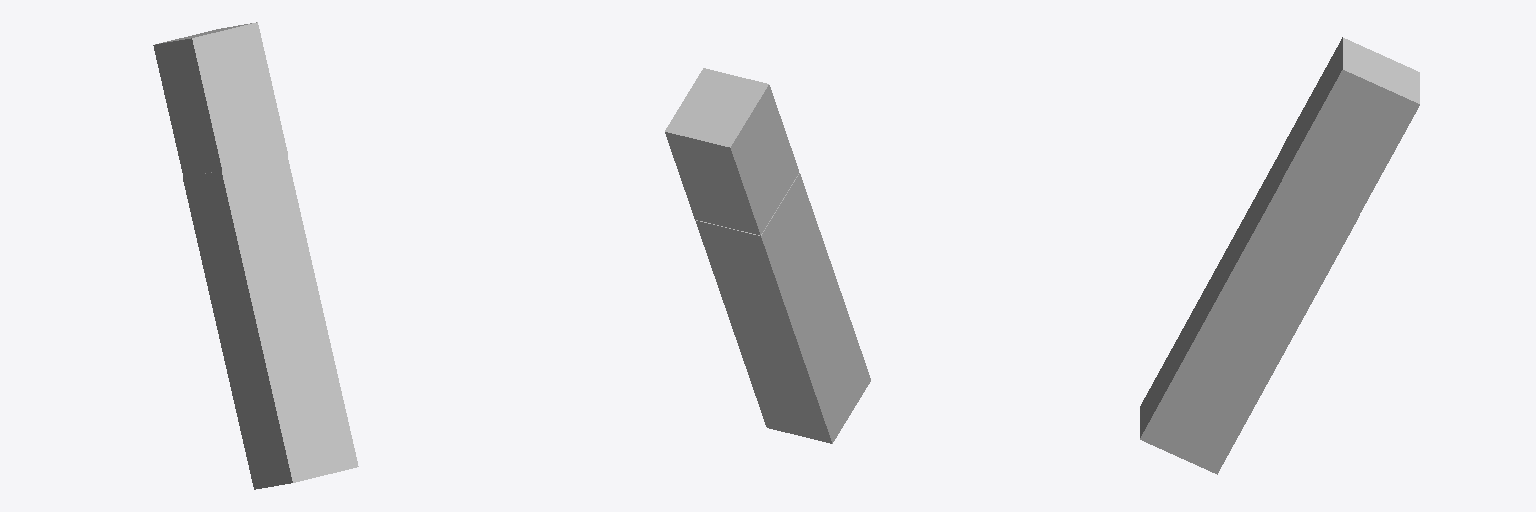
Rendered from mt_roof_hip_steep_straight.obj.
The picture shows the model from 3 angles: view 1: azimuth 30°, elevation 25°; view 2: azimuth 150°, elevation 25°; view 3: azimuth 270°, elevation 25°; orthographic projection.
Visible parts, largest first — view 1: cube; view 2: cube; view 3: cube.
Part boxes in pixels (x1,y1,x2,y2): cube: (153,22,358,489); cube: (665,68,870,443); cube: (1140,37,1419,474).
Bounding box in the file's own units: 0.4414 × 2.57 × 1.62.